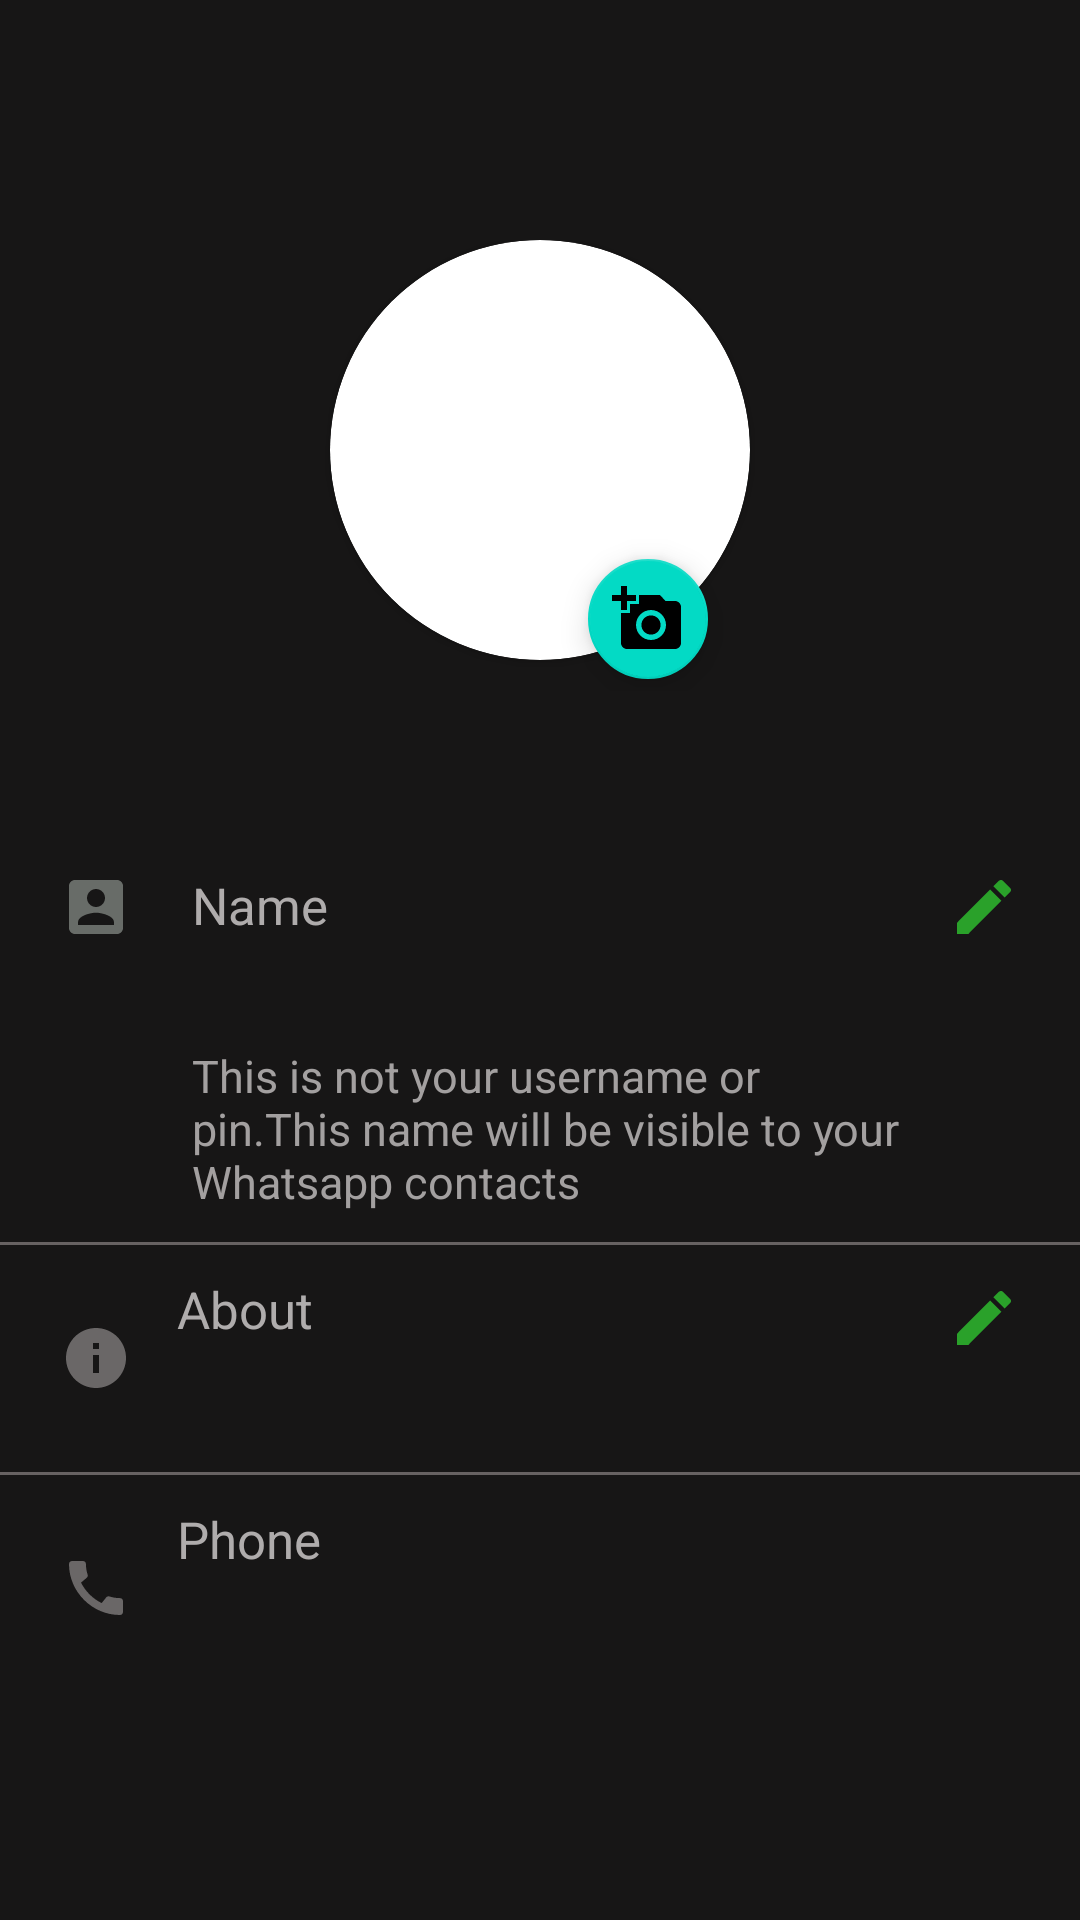

Icon click points for this 1080*1920 phone screenshot, format [x,y]:
change pic: [648,619]
